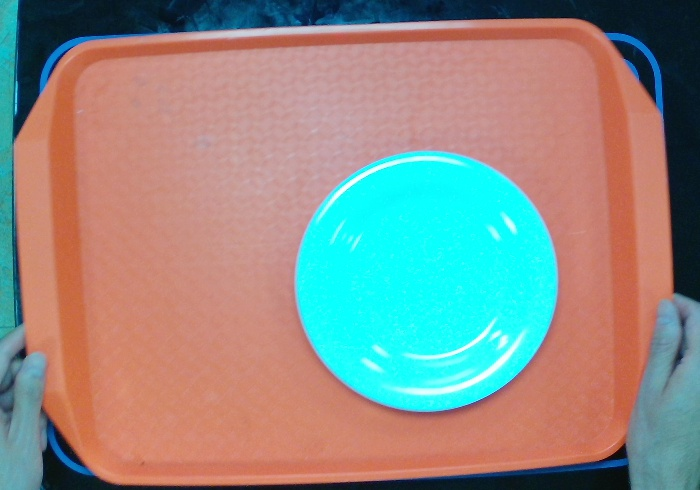RJxy-Yuan_Pan: (289, 143, 565, 424)
